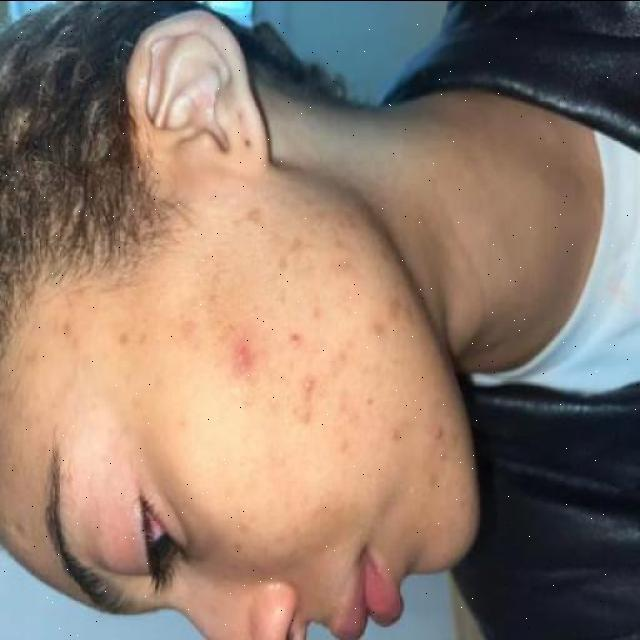Acne: (67, 207, 460, 485)
